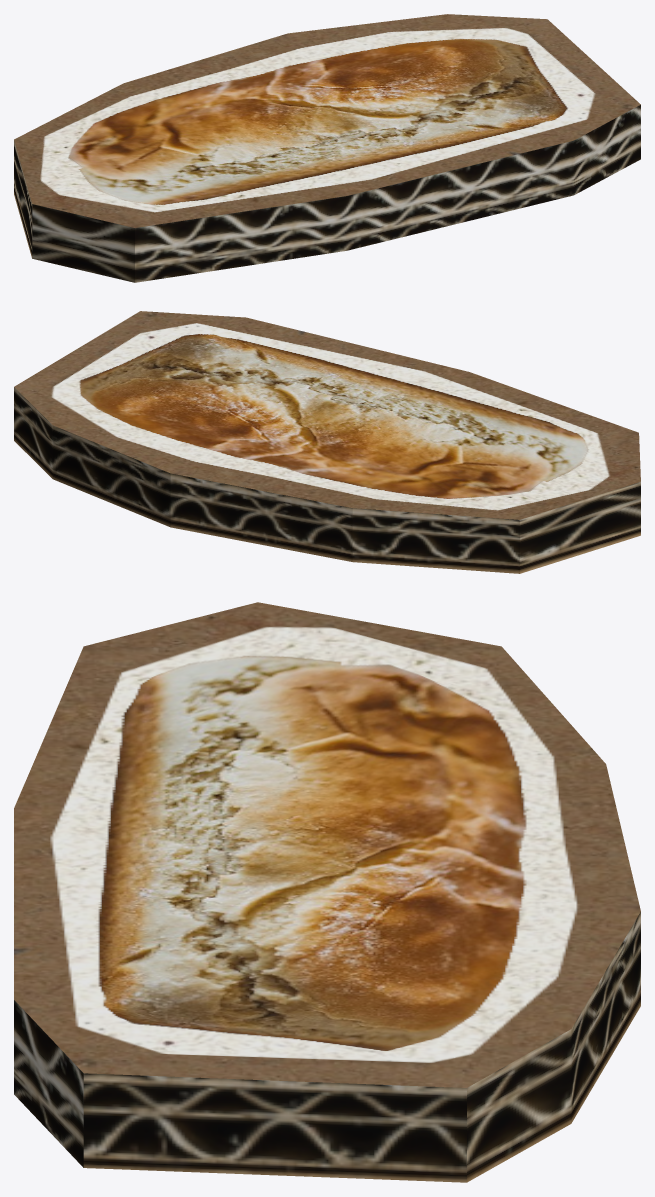
Rendered from BreadLoaf.obj.
The picture shows the model from 3 angles, top to bottom: view 1: azimuth 30°, elevation 25°; view 2: azimuth 150°, elevation 25°; view 3: azimuth 270°, elevation 25°; orthographic projection. The views are drawn at different scales.
Visible parts, largest first — view 1: Plane; view 2: Plane; view 3: Plane.
Part boxes in pixels (box(x1,y1,x2,y2)): Plane: box(14, 14, 640, 282); Plane: box(14, 311, 640, 573); Plane: box(14, 602, 640, 1182).
Bounding box in the file's own units: 3.3 × 0.3 × 1.8.
